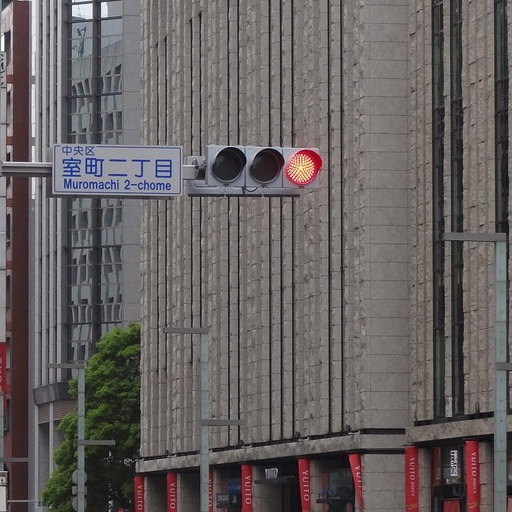Traffic_Signal_Red: (199, 140, 323, 193)
